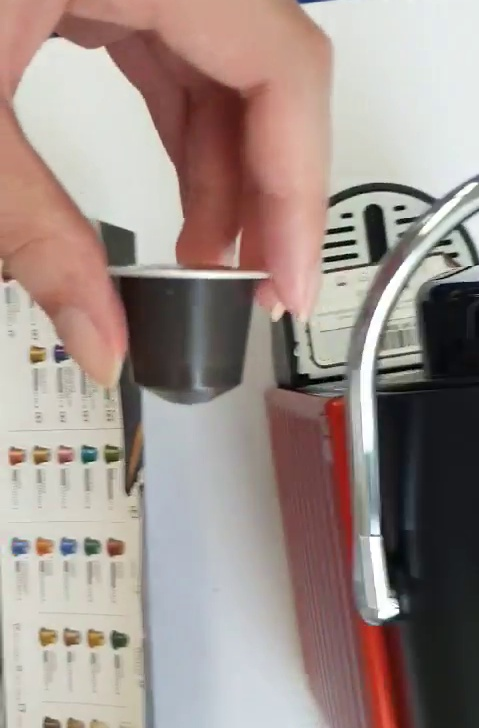capsule_4: (102, 257, 274, 407)
